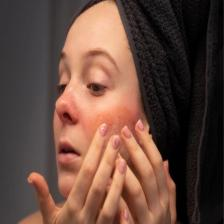Sensitif: (55, 11, 137, 188)
